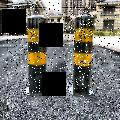bench: (21, 10, 49, 94), (69, 7, 95, 95)
